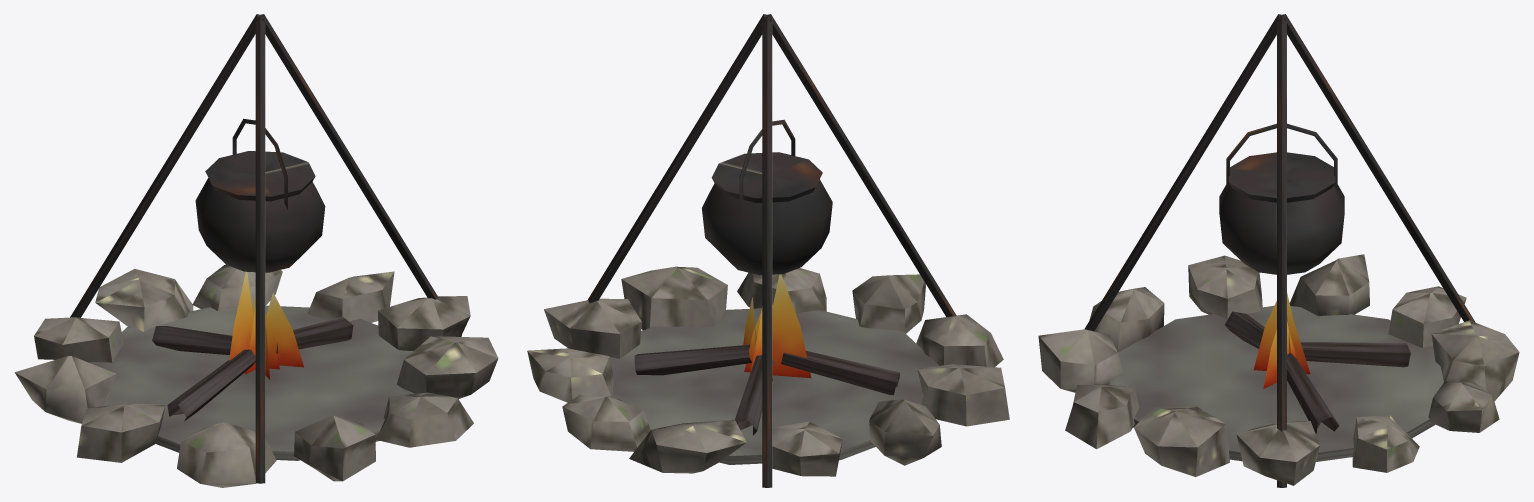
Rendered from hearth_open.obj.
3 views of the same model, side by side, from view 1: azimuth 30°, elevation 25°; view 2: azimuth 150°, elevation 25°; view 3: azimuth 270°, elevation 25° (orthographic).
Visible parts, largest first — view 1: hearth_open, hearth_open_flame2, hearth_open_flame0, hearth_open_flame1; view 2: hearth_open, hearth_open_flame0, hearth_open_flame2; view 3: hearth_open, hearth_open_flame1, hearth_open_flame2.
Part boxes in pixels (x1=…): hearth_open: x1=14, y1=14, x2=498, y2=487; hearth_open_flame2: x1=245, y1=292, x2=303, y2=374; hearth_open_flame0: x1=229, y1=271, x2=265, y2=375; hearth_open_flame1: x1=252, y1=295, x2=279, y2=379; hearth_open: x1=527, y1=14, x2=1009, y2=487; hearth_open_flame0: x1=755, y1=274, x2=811, y2=378; hearth_open_flame2: x1=743, y1=297, x2=761, y2=372; hearth_open: x1=1038, y1=14, x2=1519, y2=487; hearth_open_flame1: x1=1253, y1=293, x2=1310, y2=374; hearth_open_flame2: x1=1263, y1=315, x2=1295, y2=388.
Size of the model in its own units: 1.51 by 1.32 by 1.46.
1 material, 1 textured.
